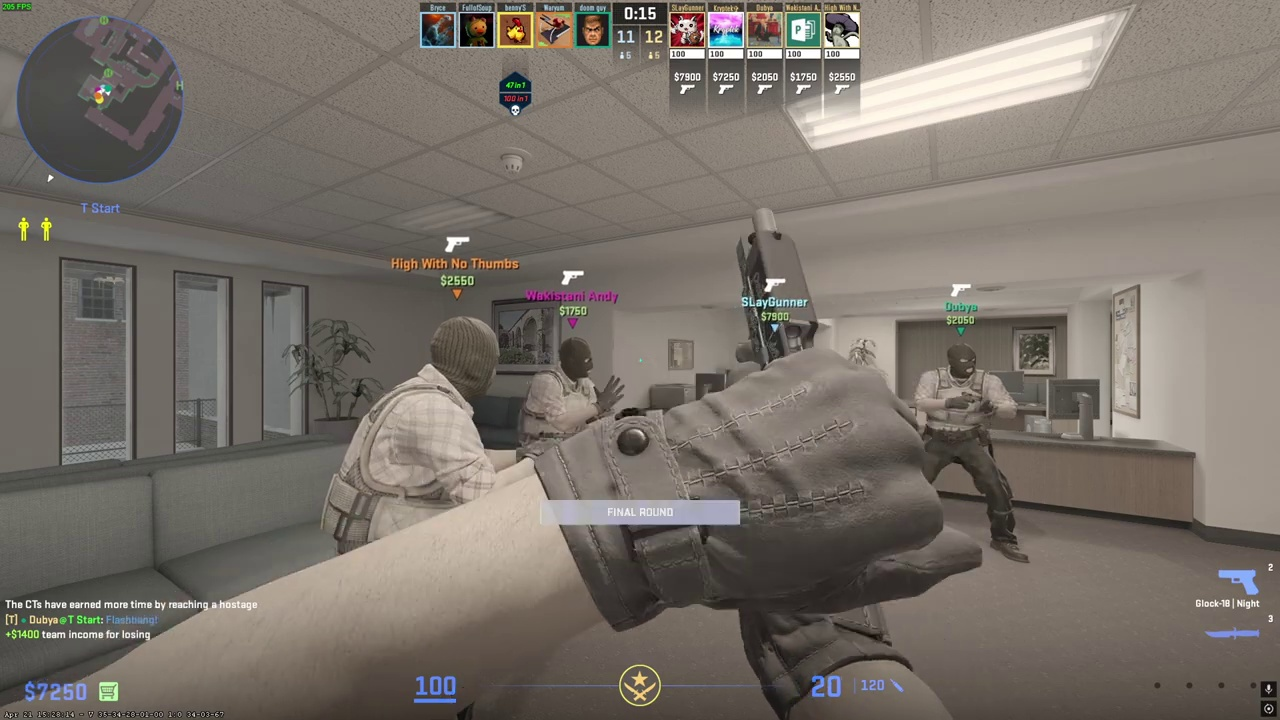Terrorist: (340, 316, 502, 553), (912, 343, 1018, 562), (526, 336, 609, 455)
